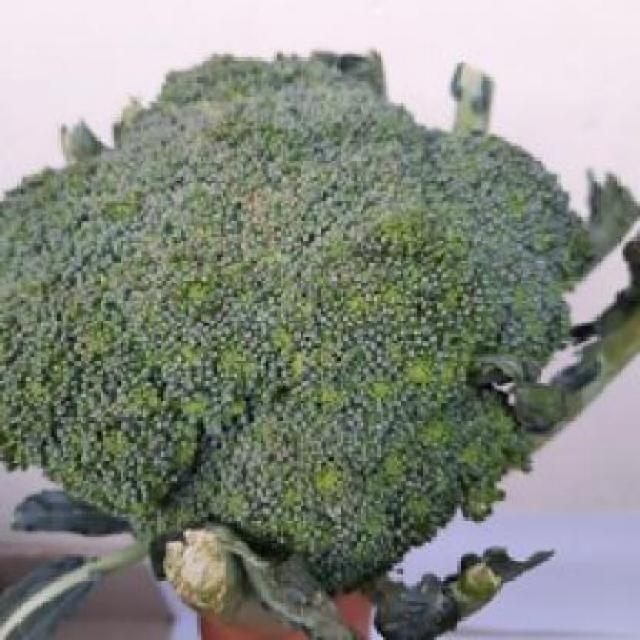broccoli: (3, 74, 586, 617)
